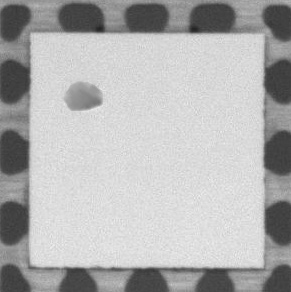DIE_INK: (59, 76, 107, 114)
